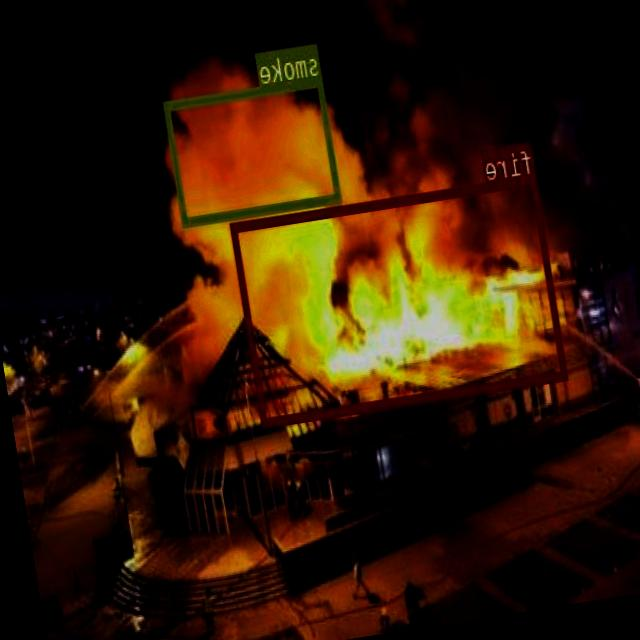fire: (231, 172, 570, 426)
smoke: (164, 76, 342, 226)
